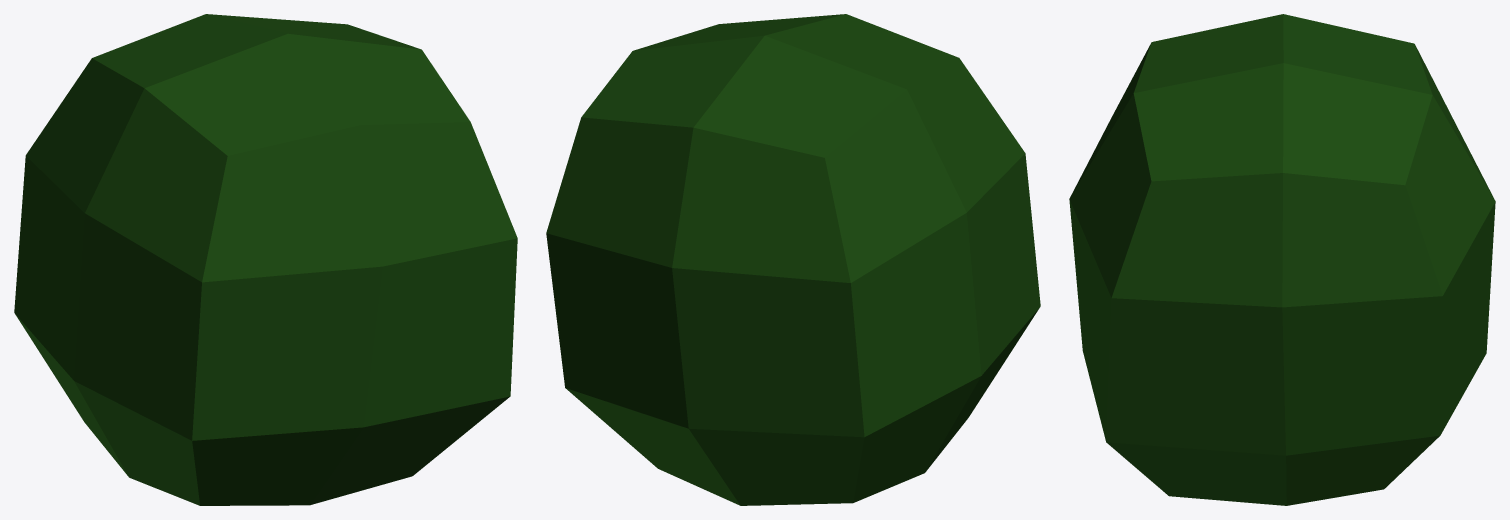
The model's file is watermelon.fbx.
3 renders of one model, left to right at view 1: azimuth 30°, elevation 25°; view 2: azimuth 150°, elevation 25°; view 3: azimuth 270°, elevation 25°, orthographic. The views are drawn at different scales.
Parts seen in each view (by area): view 1: watermelon; view 2: watermelon; view 3: watermelon.
Boxes of the visible parts, x1,y1,x2,y2 form: watermelon: [14, 14, 517, 505]; watermelon: [546, 14, 1040, 505]; watermelon: [1069, 14, 1495, 505].
Bounding box in the file's own units: 28.99 × 31.71 × 28.46.
1 material, 1 textured.
